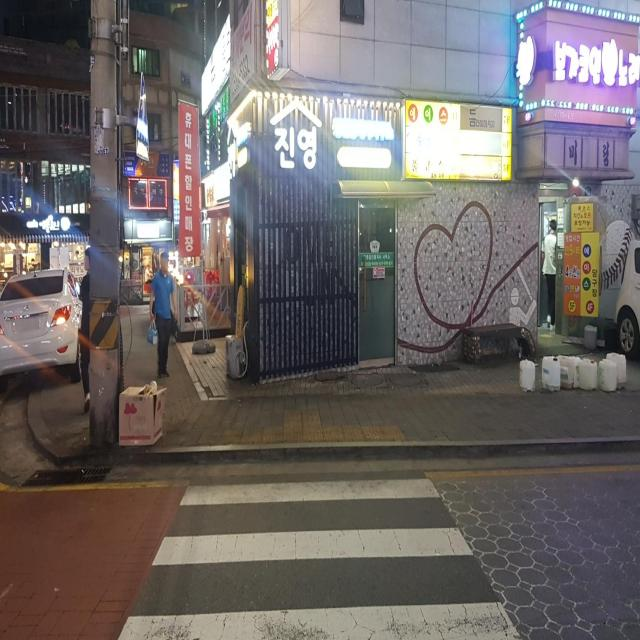횡단보도: (120, 480, 521, 640)
